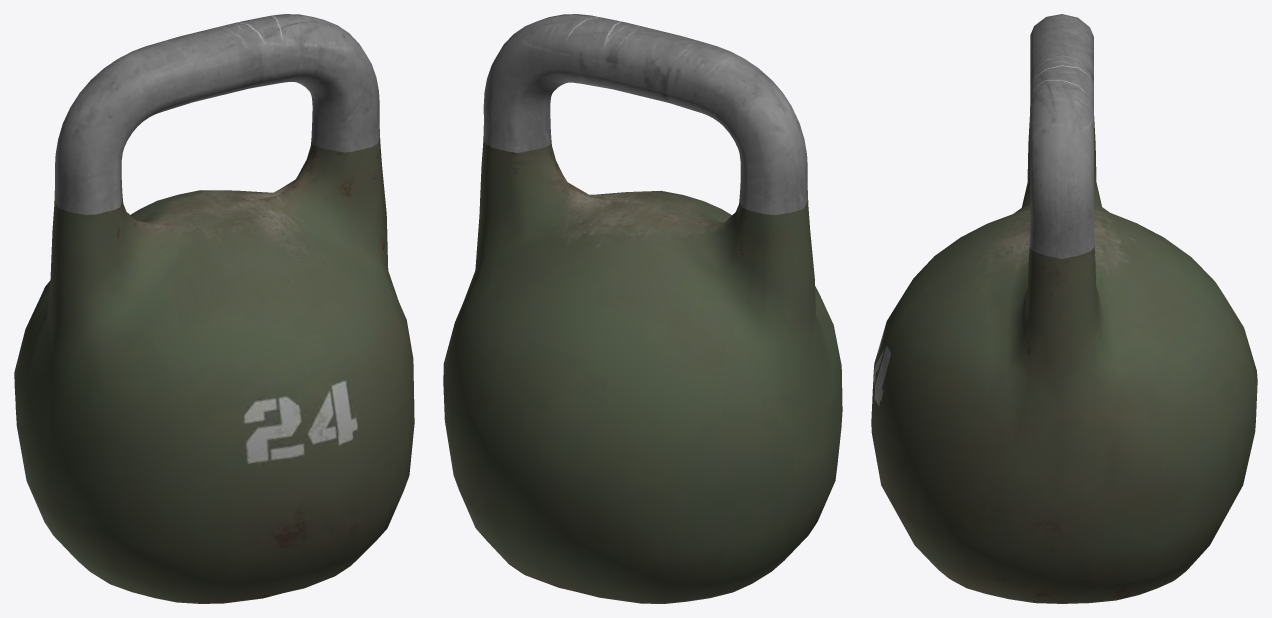
The model's file is kettlebell_24kg.glb.
The picture shows the model from 3 angles, left to right: view 1: azimuth 30°, elevation 25°; view 2: azimuth 150°, elevation 25°; view 3: azimuth 270°, elevation 25°; orthographic projection. The views are drawn at different scales.
Visible parts, largest first — view 1: kettlebell24; view 2: kettlebell24; view 3: kettlebell24.
Boxes of the visible parts, left/top/right/bottom form: kettlebell24: left=14, top=14, right=414, bottom=603; kettlebell24: left=443, top=14, right=842, bottom=603; kettlebell24: left=871, top=14, right=1257, bottom=603.
Bounding box in the file's own units: 0.1904 × 0.2706 × 0.1908.
1 material, 1 textured.
